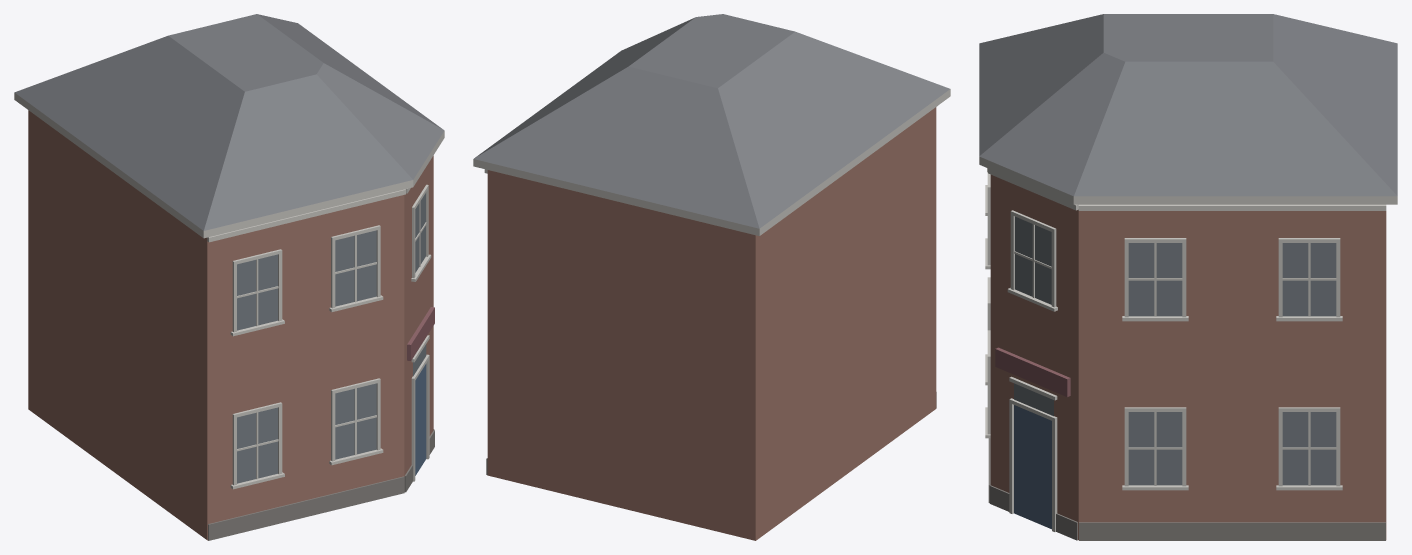
The model's file is corner_90.glb.
The picture shows the model from 3 angles, left to right: view 1: azimuth 30°, elevation 25°; view 2: azimuth 150°, elevation 25°; view 3: azimuth 270°, elevation 25°; orthographic projection. The views are drawn at different scales.
Visible parts, largest first — view 1: Part0; view 2: Part0; view 3: Part0.
Boxes of the visible parts, x1=… form: Part0: x1=14, y1=14, x2=444, y2=540; Part0: x1=473, y1=14, x2=950, y2=540; Part0: x1=979, y1=14, x2=1397, y2=540.
Size of the model in its own units: 6.4 by 8.4 by 7.4.
